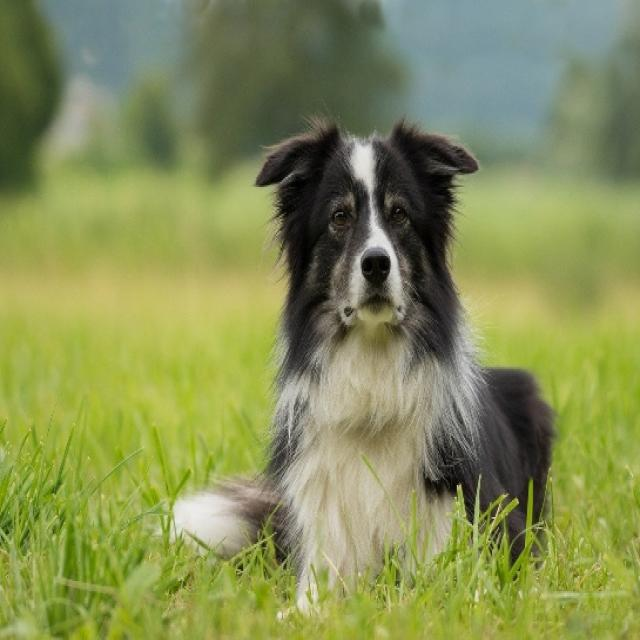BORDER_COLLIE: (174, 87, 576, 605)
